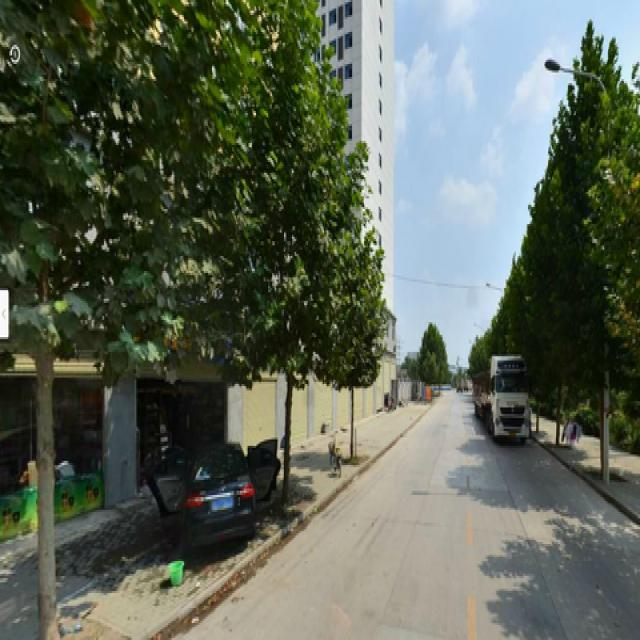meta: (9, 11, 138, 610)
